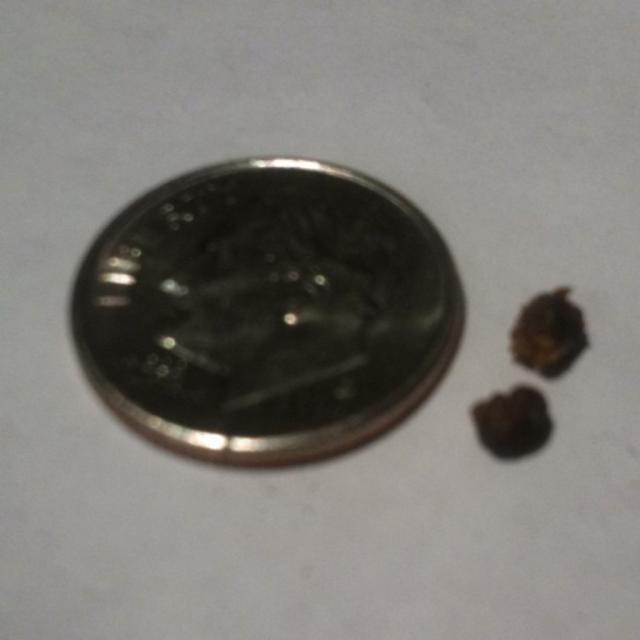Coin: (64, 152, 470, 467)
